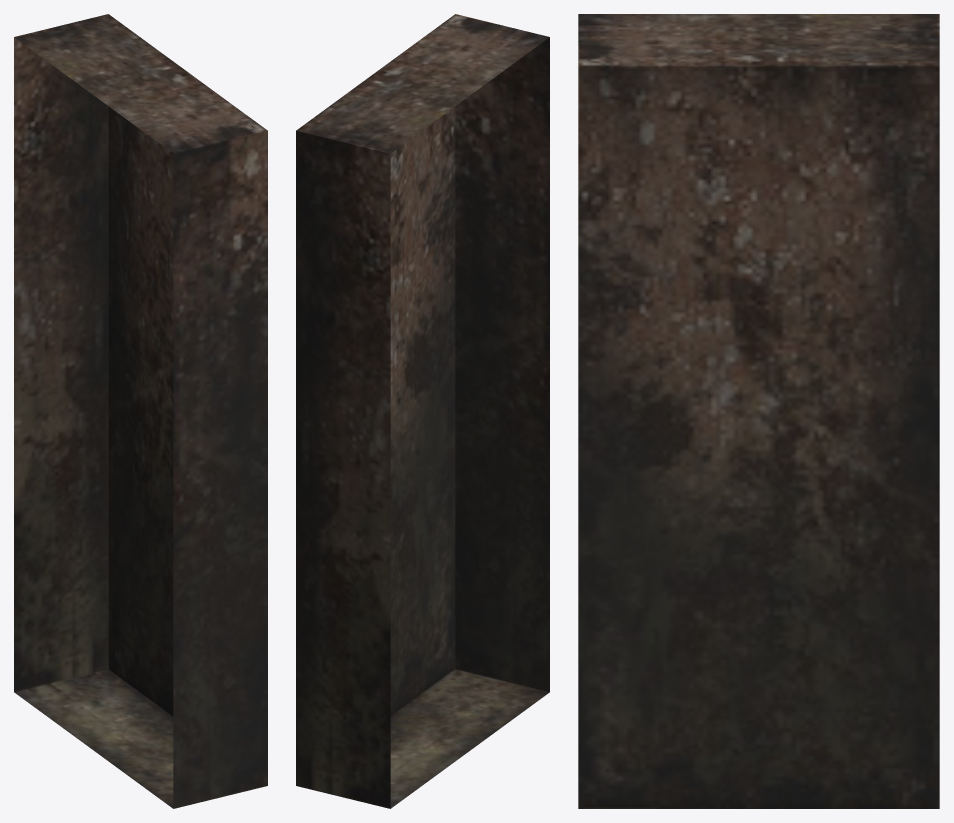
Rendered from Wall_Patch.FBX.
The picture shows the model from 3 angles, left to right: view 1: azimuth 30°, elevation 25°; view 2: azimuth 150°, elevation 25°; view 3: azimuth 270°, elevation 25°; orthographic projection. The views are drawn at different scales.
Visible parts, largest first — view 1: Wall_Patch; view 2: Wall_Patch; view 3: Wall_Patch.
Boxes of the visible parts, bbox=[...] form: Wall_Patch: bbox=[14, 14, 267, 808]; Wall_Patch: bbox=[296, 14, 549, 808]; Wall_Patch: bbox=[578, 14, 939, 808].
Bounding box in the file's own units: 77.13 × 511 × 225.
